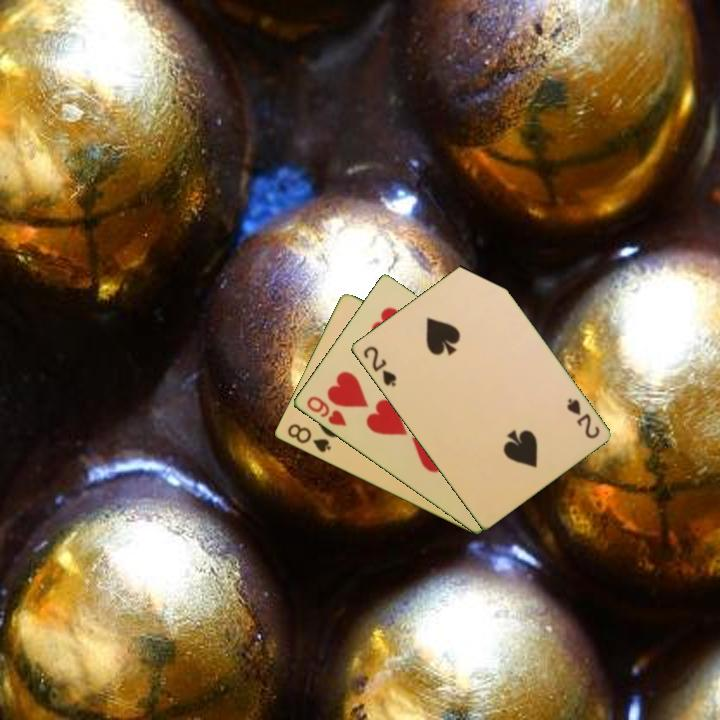2s: (359, 342, 399, 390), (563, 394, 602, 442)
8s: (283, 420, 334, 456)
9h: (303, 393, 349, 429)
